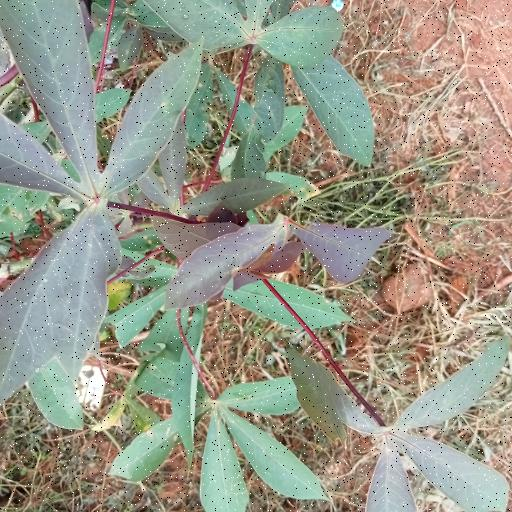Cassava_Healthy: (0, 0, 209, 410), (109, 371, 322, 512)
